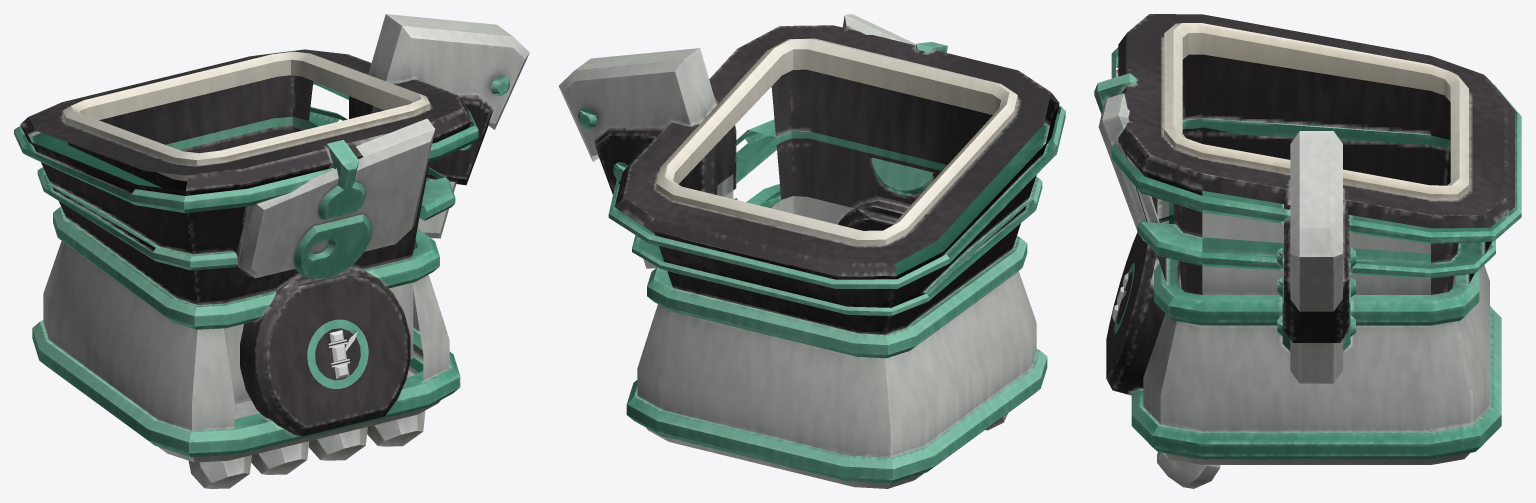
File: Stillpaw Bracers.fbx
3 views of the same model, side by side, from view 1: azimuth 30°, elevation 25°; view 2: azimuth 150°, elevation 25°; view 3: azimuth 270°, elevation 25° (orthographic). The views are drawn at different scales.
Visible parts, largest first — view 1: Stillpaw Bracers_Body, Stillpaw Bracers_Glow; view 2: Stillpaw Bracers_Body; view 3: Stillpaw Bracers_Body.
Part boxes in pixels (<box>): Stillpaw Bracers_Body: <box>14,14,529,488</box>; Stillpaw Bracers_Glow: <box>328,330,357,379</box>; Stillpaw Bracers_Body: <box>558,14,1065,488</box>; Stillpaw Bracers_Body: <box>1094,14,1521,488</box>.
Bounding box in the file's own units: 2.05 × 1.62 × 1.63.
